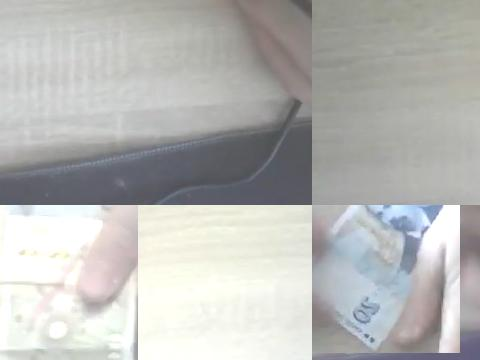10leva: (0, 205, 138, 360)
20leva: (312, 205, 446, 353)
